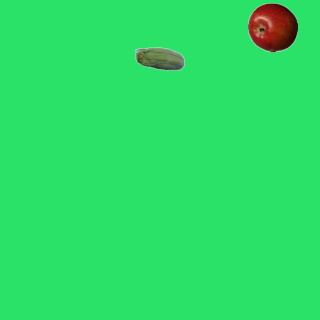Apple Braeburn: (247, 2, 297, 52)
Corn Husk: (134, 35, 184, 85)
